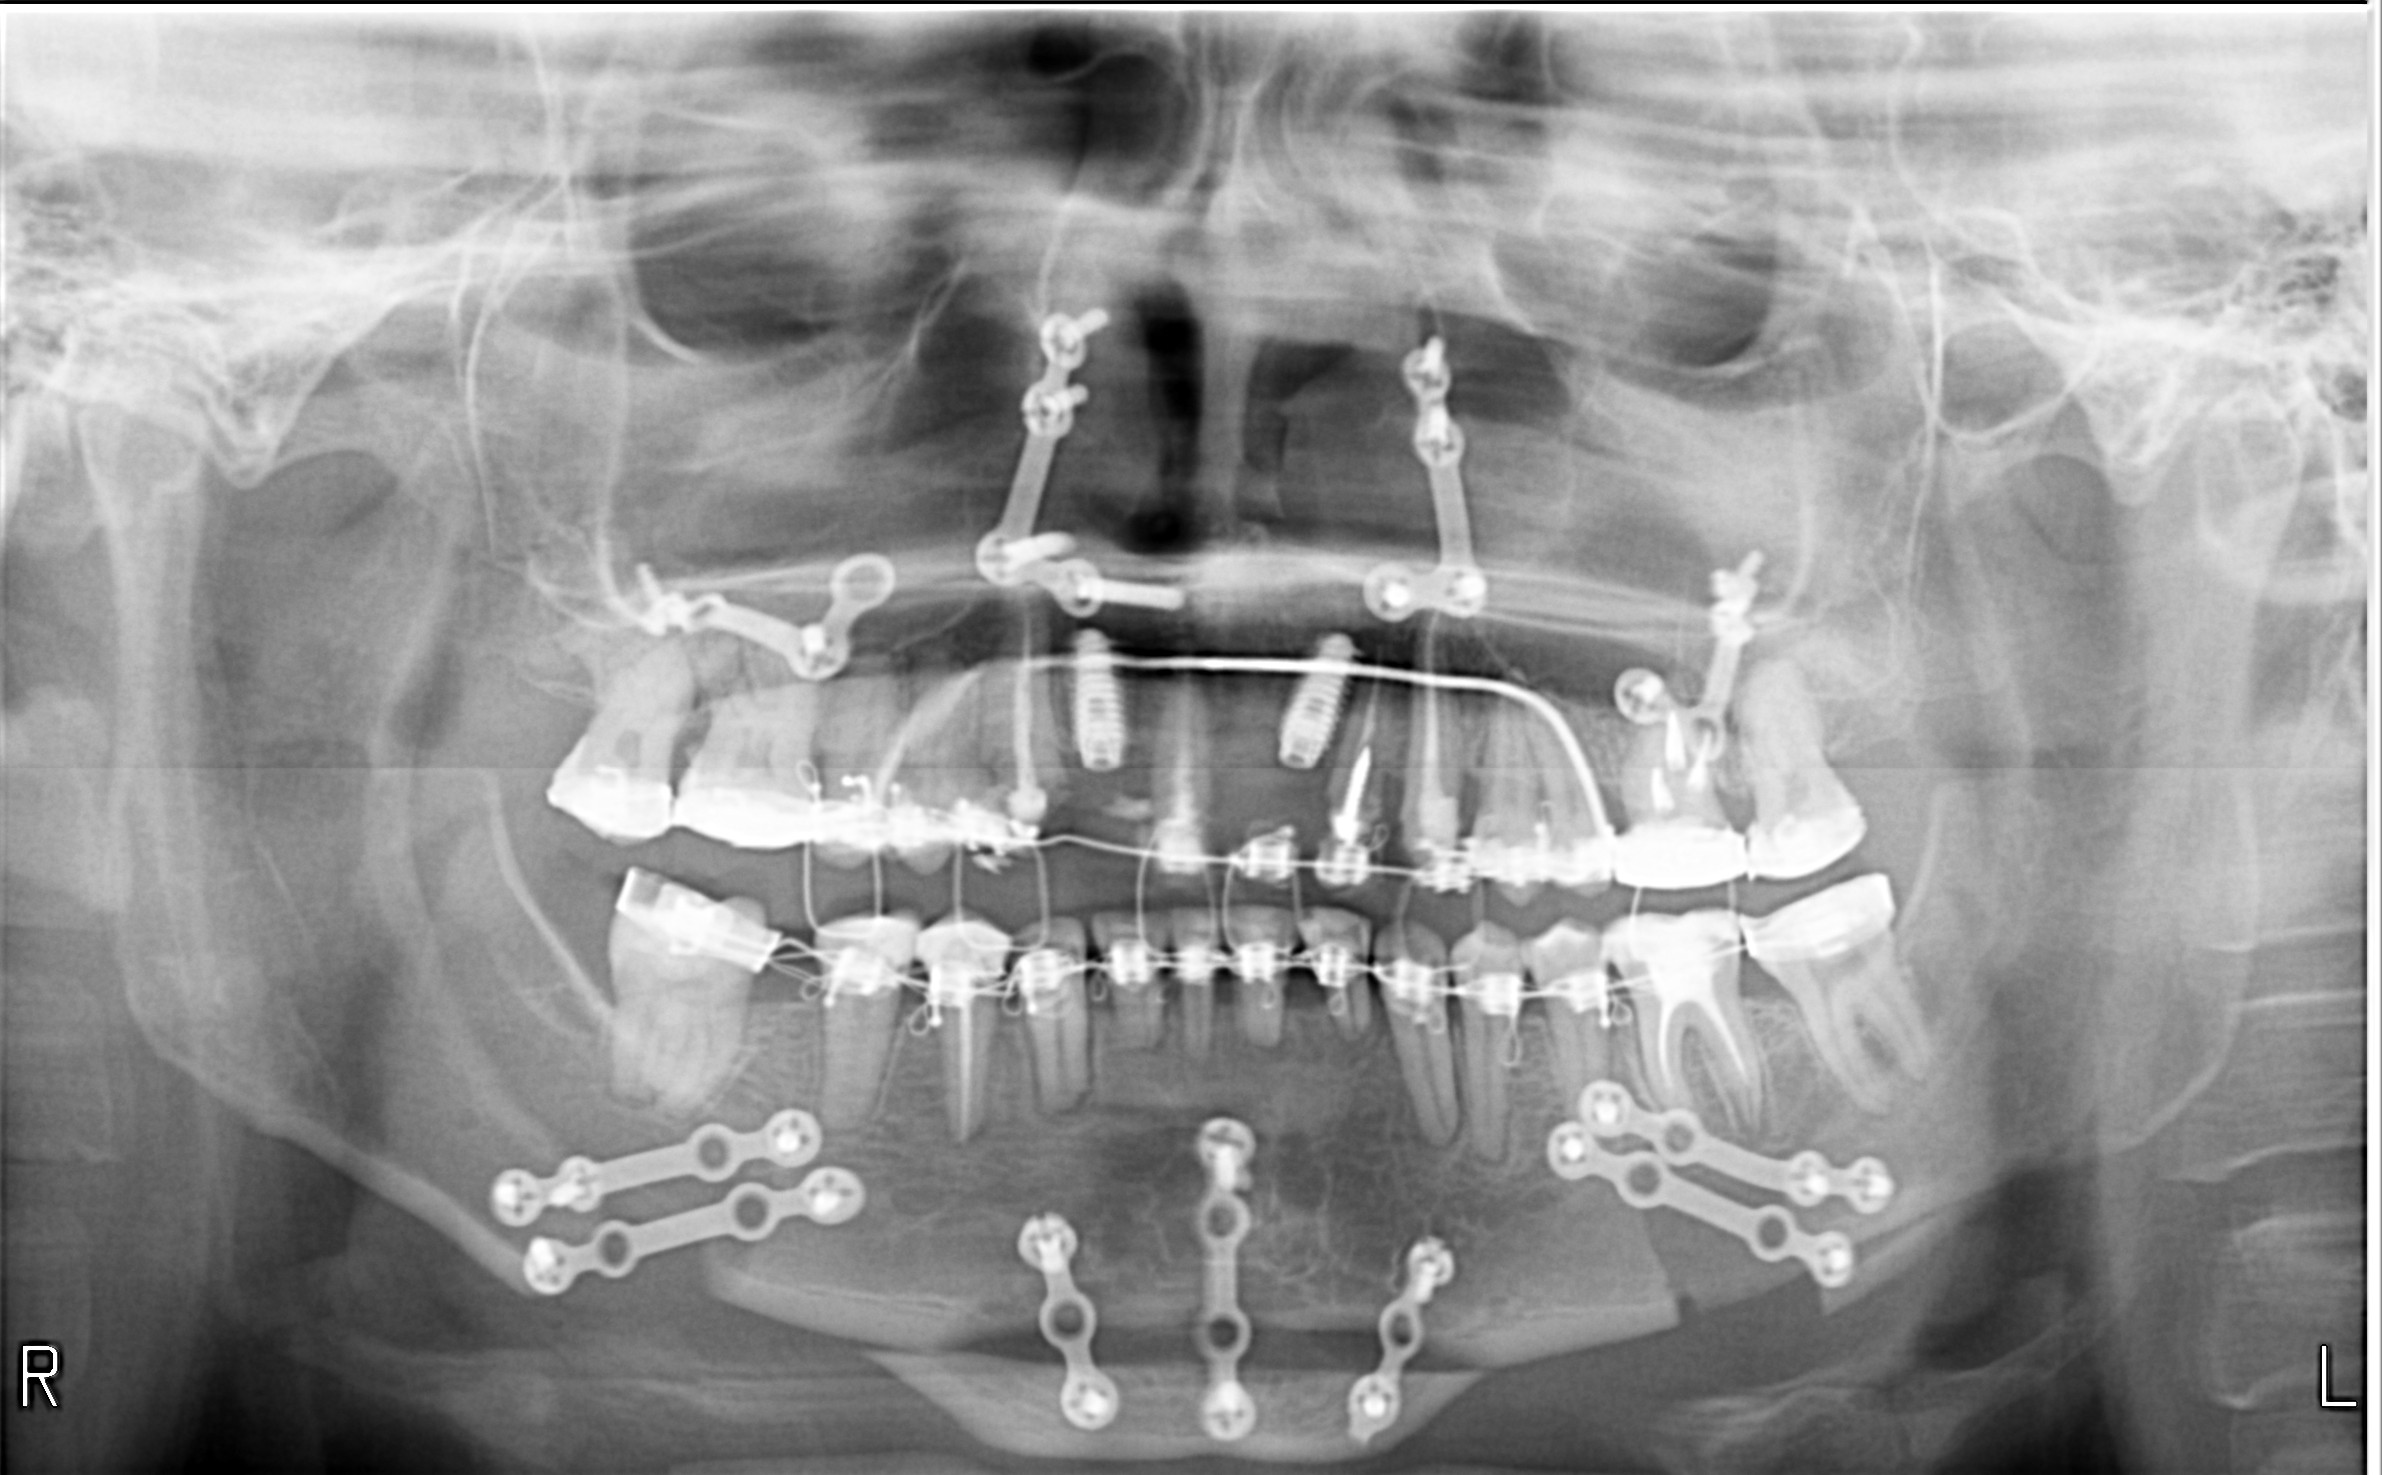APS: (1040, 1075, 1099, 1143)
END: (1638, 1002, 1783, 1155), (1397, 619, 1468, 832), (995, 573, 1053, 789), (1336, 652, 1392, 810), (939, 999, 999, 1143)
IMP: (1034, 614, 1157, 798), (1247, 616, 1349, 779)
ORD: (534, 643, 1953, 902), (538, 810, 1975, 1045)
SRD: (1504, 1089, 1889, 1353), (955, 277, 1220, 621), (492, 1123, 875, 1341), (1526, 1046, 1953, 1240), (585, 515, 932, 721), (425, 1070, 858, 1227), (1147, 1085, 1295, 1475), (1283, 1203, 1506, 1451), (1349, 316, 1516, 628), (1591, 526, 1798, 769), (1011, 1174, 1138, 1446)
